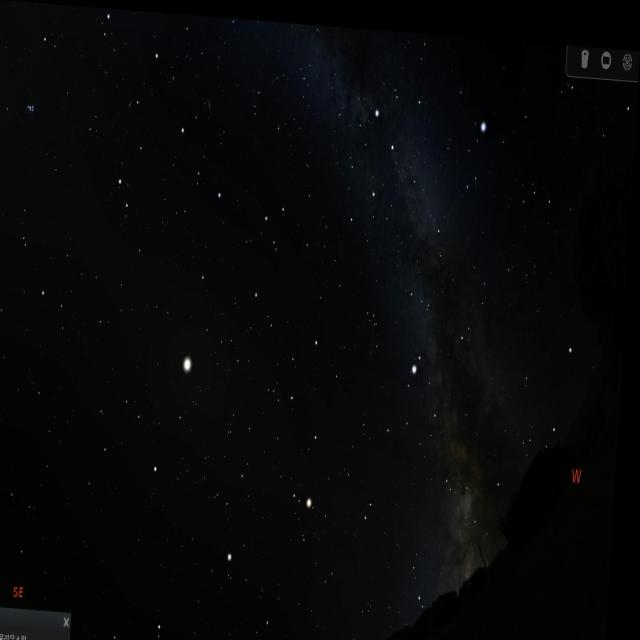aquila: (384, 336, 477, 498)
cygnus: (365, 70, 453, 234)
lyra: (464, 106, 489, 202)
pleiades: (20, 92, 46, 133)
